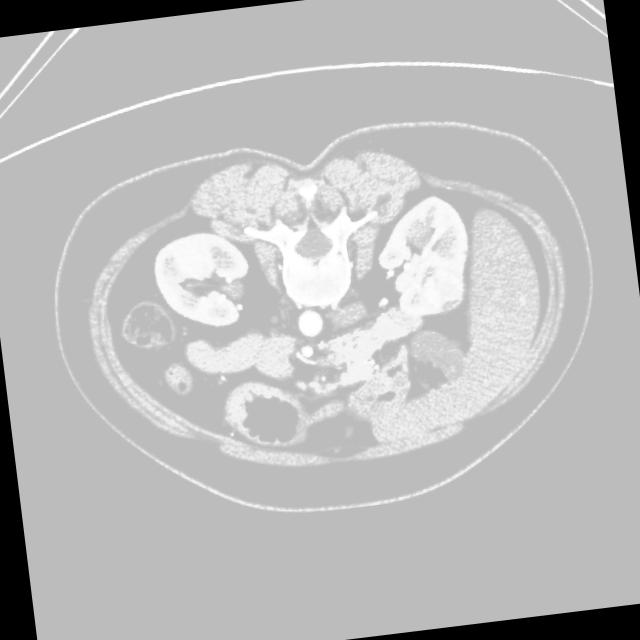TUMOR: (117, 184, 480, 441)
